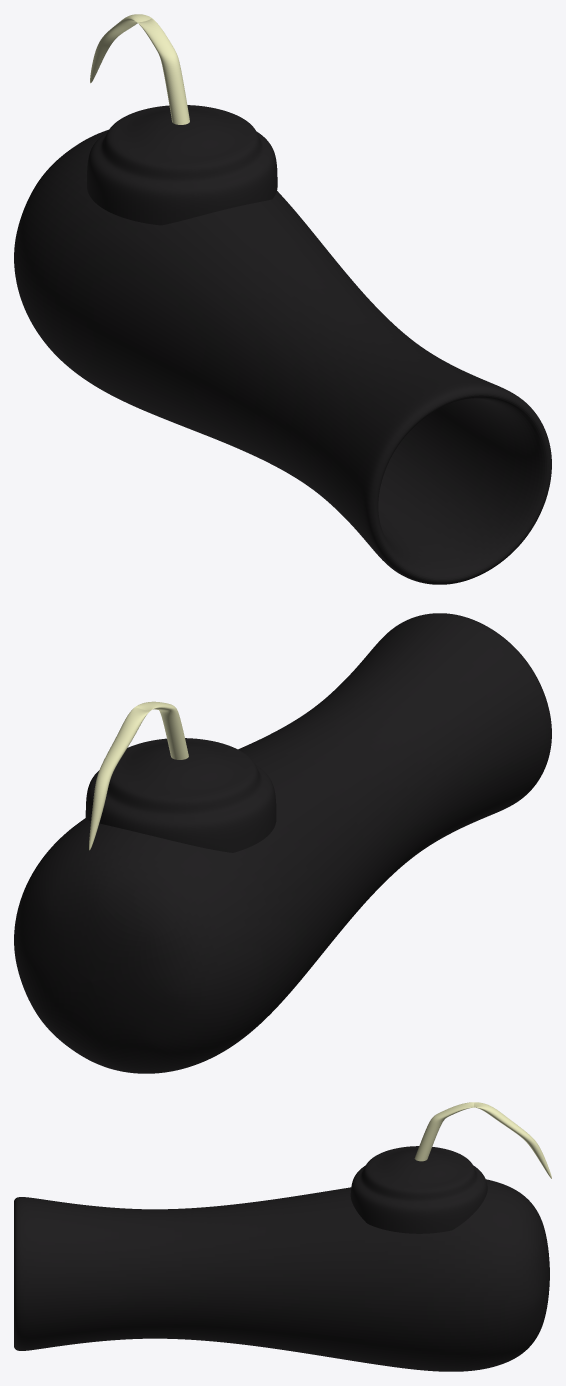
The model's file is canon.fbx.
The picture shows the model from 3 angles, top to bottom: view 1: azimuth 30°, elevation 25°; view 2: azimuth 150°, elevation 25°; view 3: azimuth 270°, elevation 25°; orthographic projection. The views are drawn at different scales.
Parts seen in each view (by area): view 1: Cylinder.001; view 2: Cylinder.001; view 3: Cylinder.001.
Part boxes in pixels (x1,y1,x2,y2): Cylinder.001: [14, 14, 551, 584]; Cylinder.001: [14, 613, 551, 1073]; Cylinder.001: [14, 1102, 551, 1371].
Size of the model in its own units: 184 by 268 by 506.
